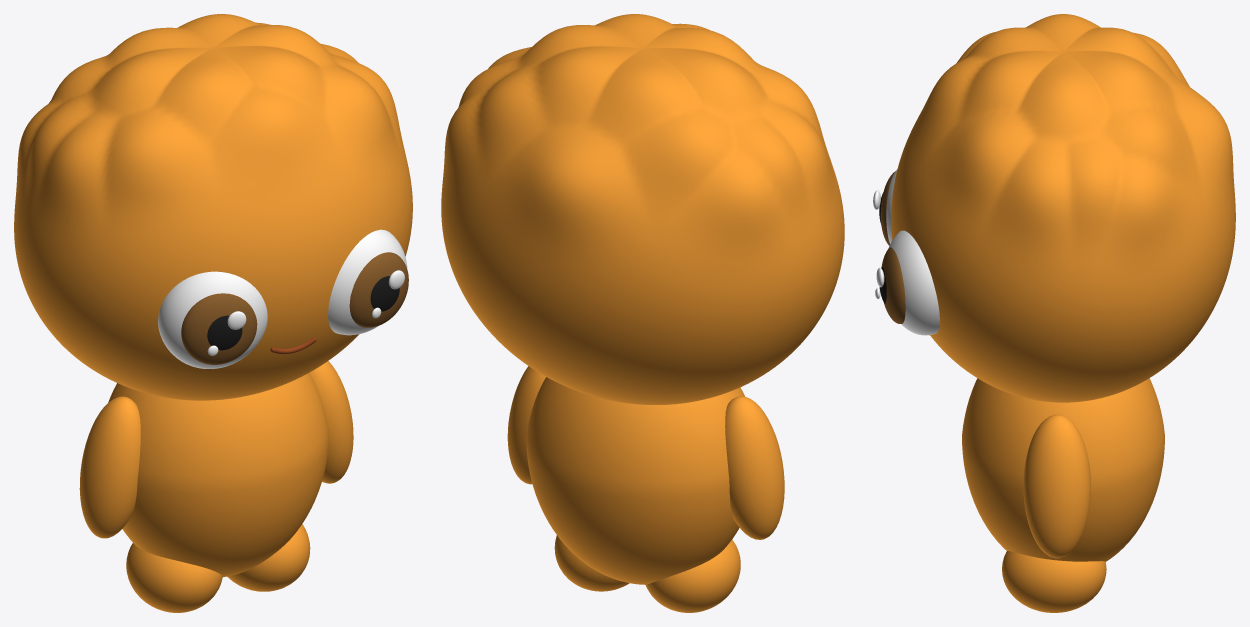
Rendered from blobby.glb.
3 views of the same model, side by side, from view 1: azimuth 30°, elevation 25°; view 2: azimuth 150°, elevation 25°; view 3: azimuth 270°, elevation 25° (orthographic). The views are drawn at different scales.
Visible parts, largest first — view 1: Head, Body, ArmL, LookL, EyeL, LookR, ArmR, EyeR; view 2: Head, Body, ArmL, ArmR; view 3: Head, Body, ArmR, EyeR, LookR, LookL.
Part boxes in pixels (left/top/right/bottom): Head: left=14, top=14, right=412, bottom=400; Body: left=108, top=373, right=328, bottom=612; ArmL: left=79, top=396, right=140, bottom=538; LookL: left=181, top=293, right=257, bottom=364; EyeL: left=158, top=271, right=267, bottom=368; LookR: left=349, top=252, right=408, bottom=327; ArmR: left=309, top=361, right=353, bottom=483; EyeR: left=328, top=229, right=407, bottom=335; Head: left=441, top=14, right=844, bottom=404; Body: left=526, top=377, right=744, bottom=612; ArmL: left=725, top=396, right=784, bottom=539; ArmR: left=507, top=366, right=545, bottom=484; Head: left=891, top=14, right=1235, bottom=402; Body: left=962, top=378, right=1164, bottom=612; ArmR: left=1023, top=414, right=1091, bottom=558; EyeR: left=888, top=230, right=939, bottom=335; LookR: left=875, top=247, right=905, bottom=323; LookL: left=873, top=171, right=895, bottom=245.
Size of the model in its own units: 1.32 by 1.93 by 1.18.
